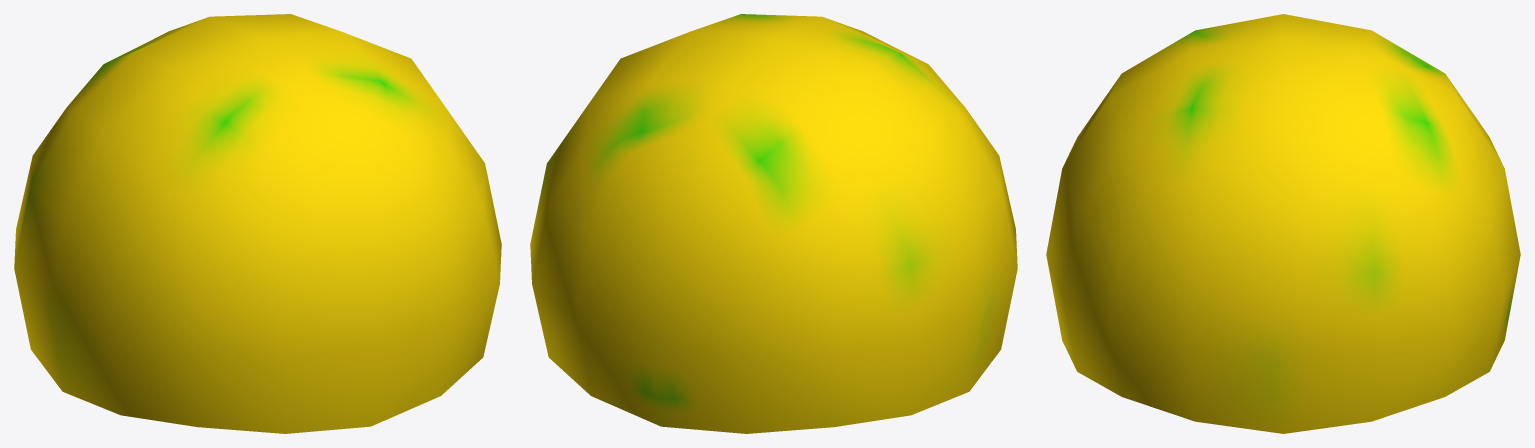
Rendered from p_mesh_liquidball_animated.fbx.
3 views of the same model, side by side, from view 1: azimuth 30°, elevation 25°; view 2: azimuth 150°, elevation 25°; view 3: azimuth 270°, elevation 25° (orthographic).
Parts seen in each view (by area): view 1: pCube55; view 2: pCube55; view 3: pCube55.
Boxes of the visible parts, left/top/right/bottom form: pCube55: left=14, top=14, right=501, bottom=433; pCube55: left=530, top=14, right=1017, bottom=433; pCube55: left=1046, top=14, right=1520, bottom=433.
Bounding box in the file's own units: 1.52 × 1.06 × 1.52.
